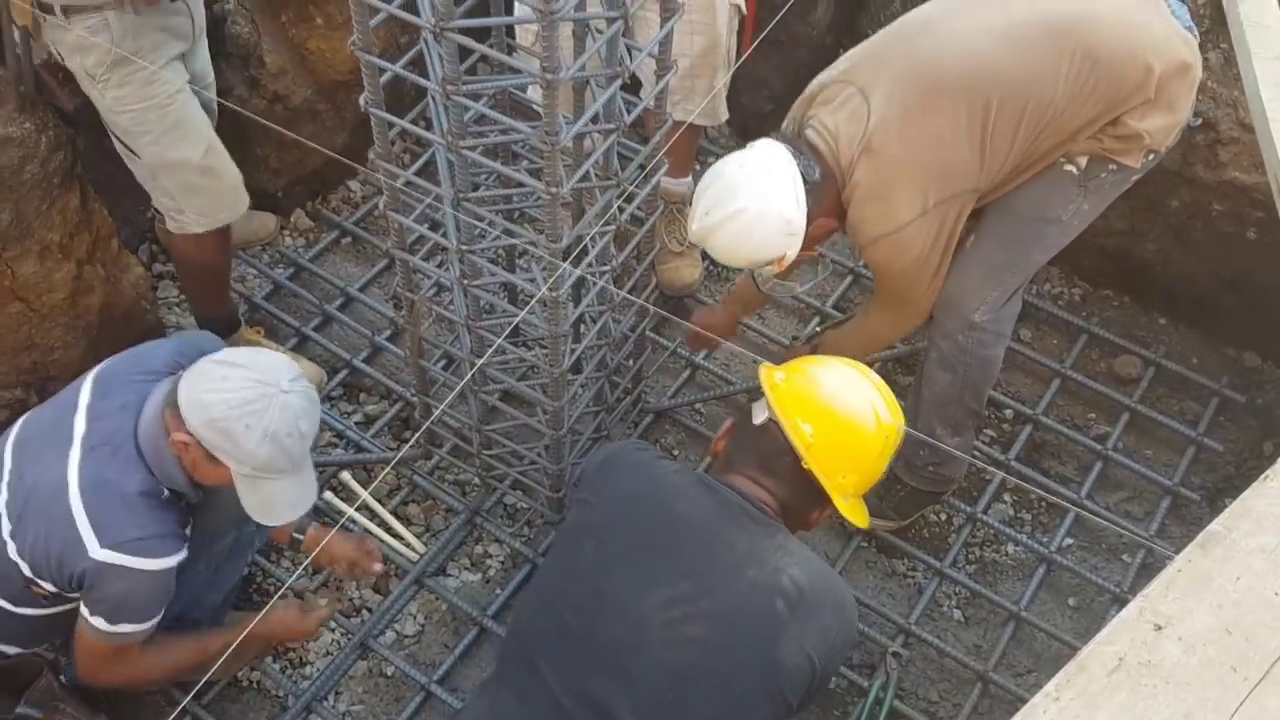helmet: (749, 348, 896, 529), (687, 137, 812, 285)
helmet-off: (153, 336, 318, 533)
helmet-on: (712, 355, 909, 534), (687, 134, 858, 287)
person: (695, 15, 1196, 514), (470, 371, 896, 713), (0, 317, 386, 686), (19, 0, 283, 425), (505, 0, 735, 311)
